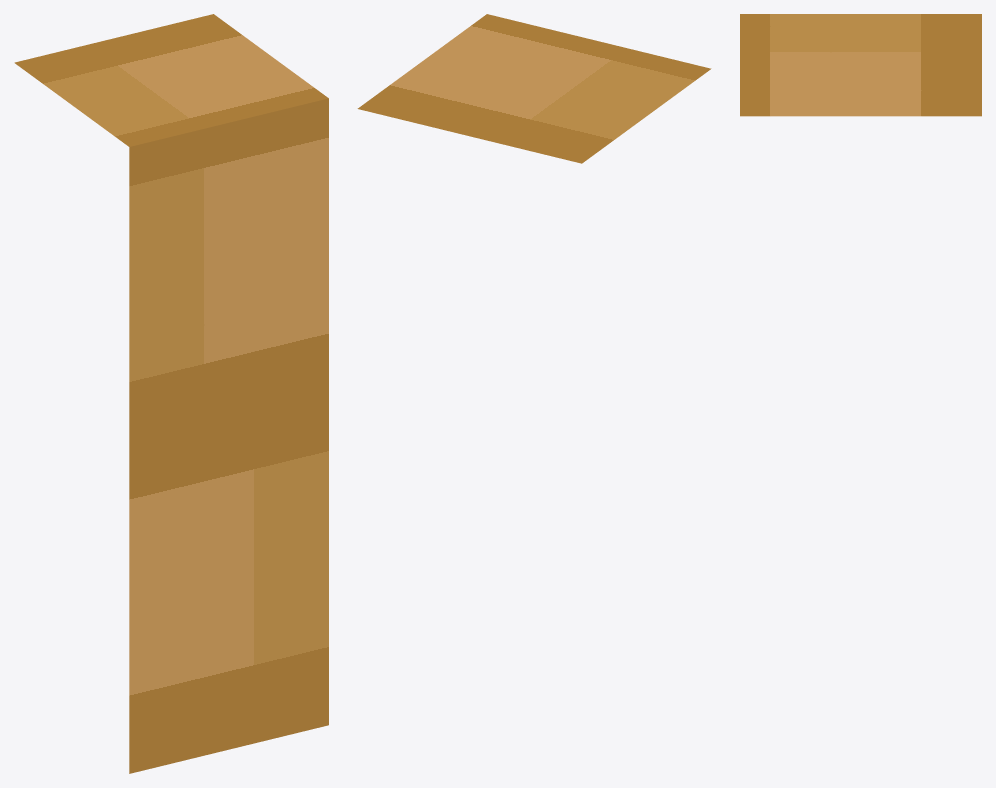
The picture shows the model from 3 angles, left to right: view 1: azimuth 30°, elevation 25°; view 2: azimuth 150°, elevation 25°; view 3: azimuth 270°, elevation 25°; orthographic projection. The views are drawn at different scales.
Bounding box in the file's own units: 1 × 3 × 1.
Materials: 1 (1 with a texture image).
